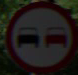No overtake: (6, 5, 68, 60)
